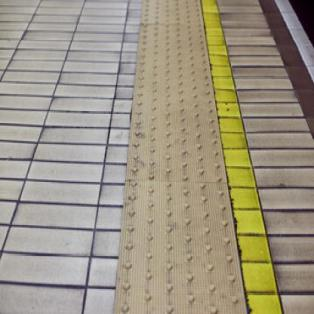Podoctatil: (109, 0, 288, 314)
